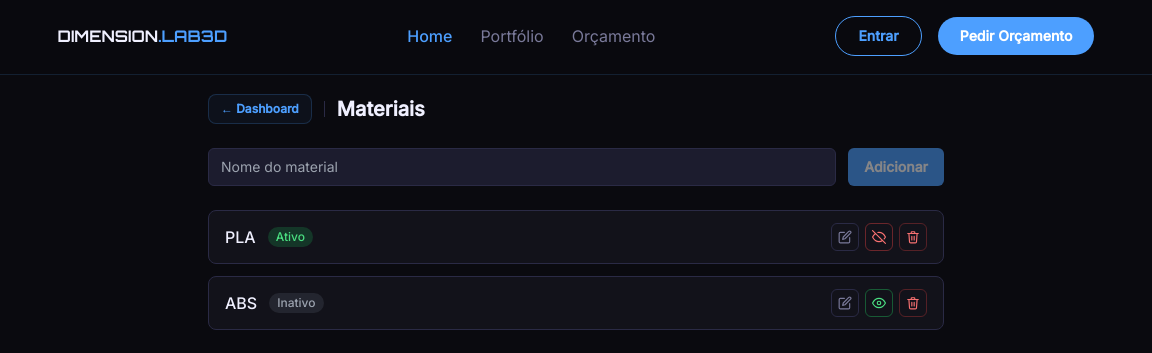
Test: MaterialsAdmin › enters edit mode when edit button clicked
Expected: the text "PLA" is shown, [225,225,256,249]
Click the 1st button named "editar". click: coordinates (845, 237)
box: [831,223,859,251]
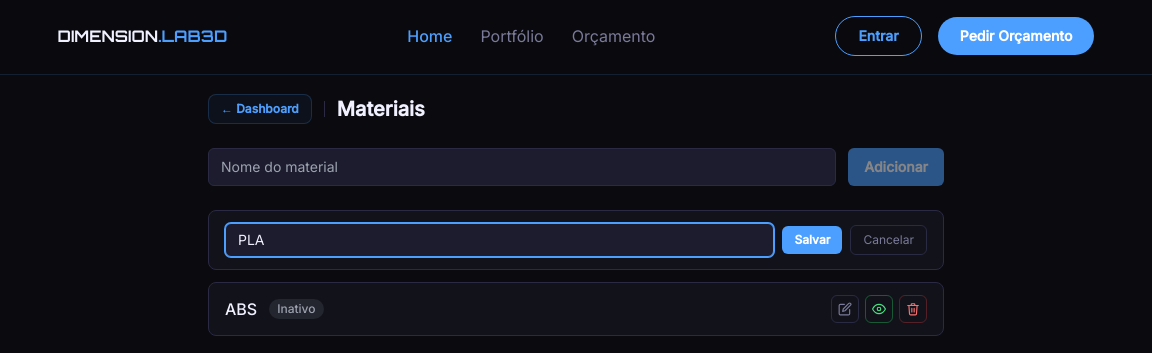
Expected: the field showing "PLA" is shown, [225,223,774,257]
